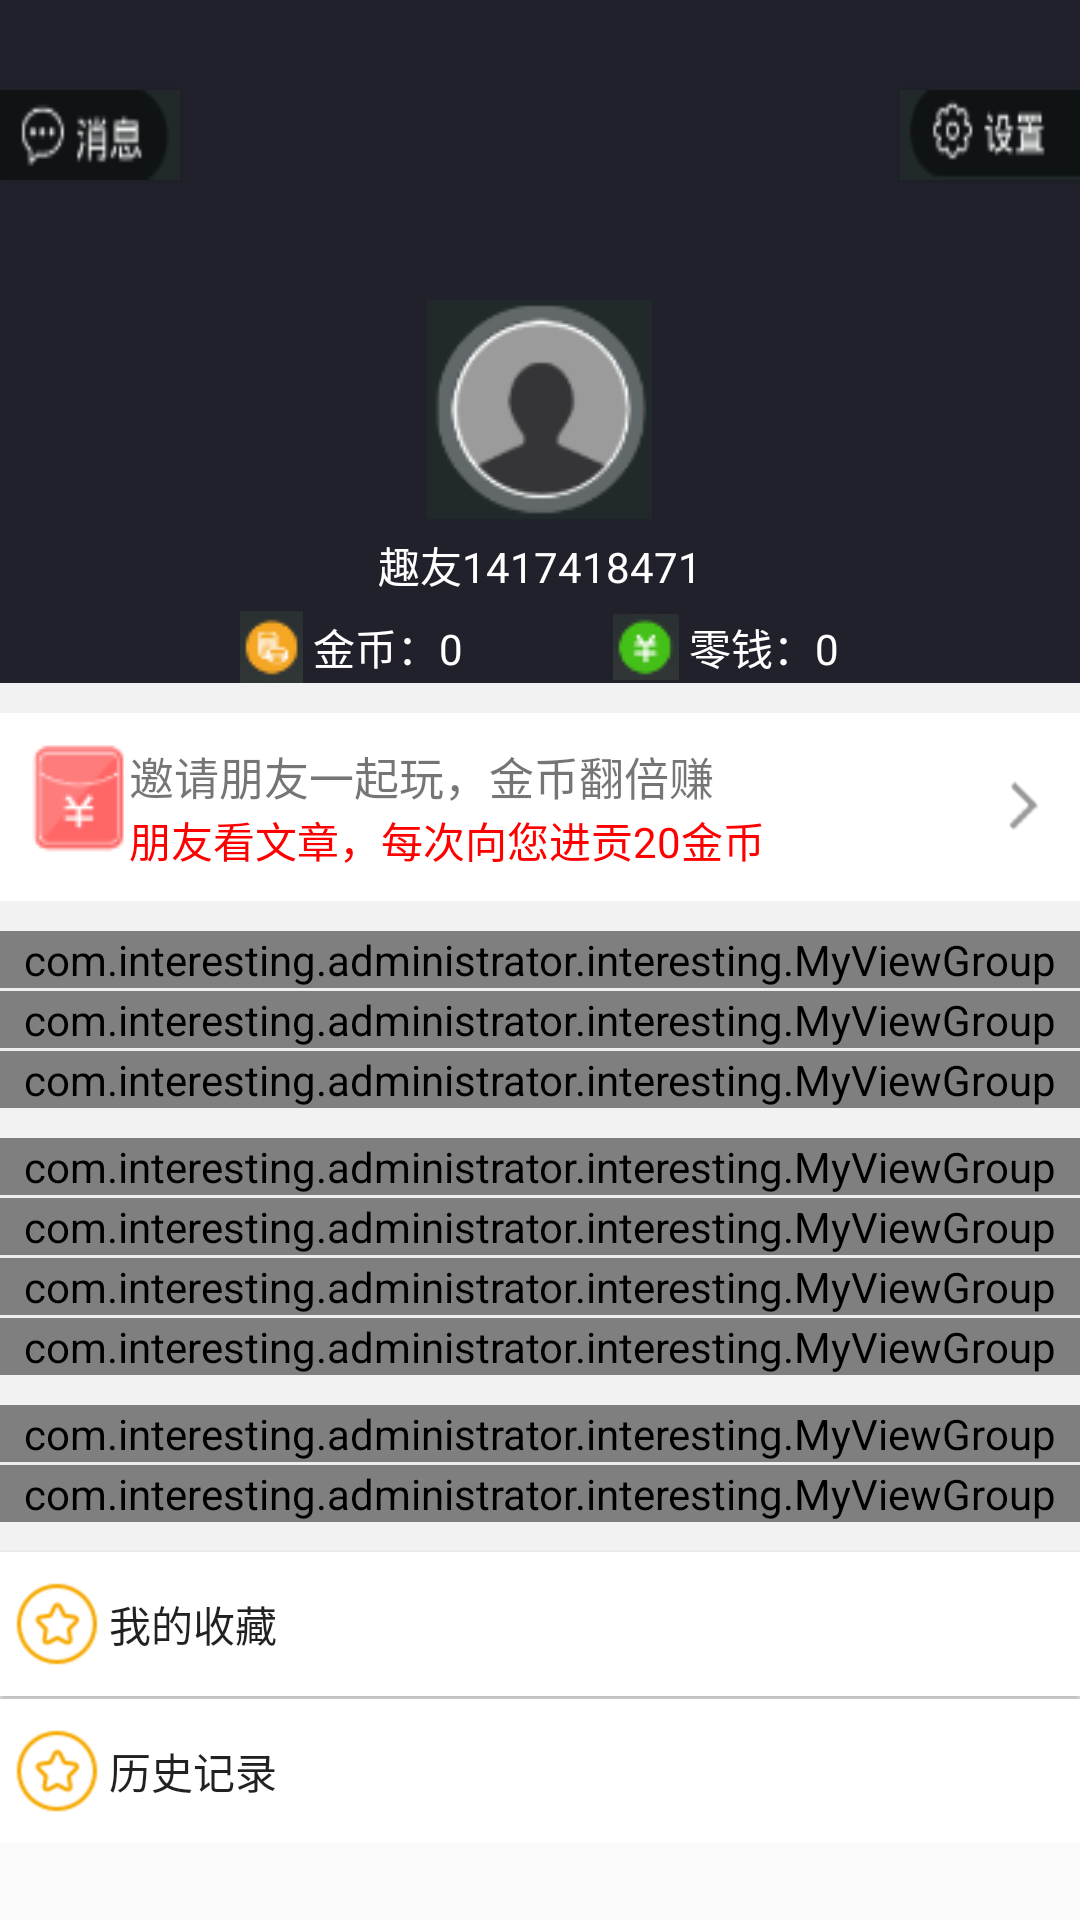

Named icons in this screenshot (1080*1920) and their centers, (x,y):
goto right: (1024,805)
head: (541,409)
